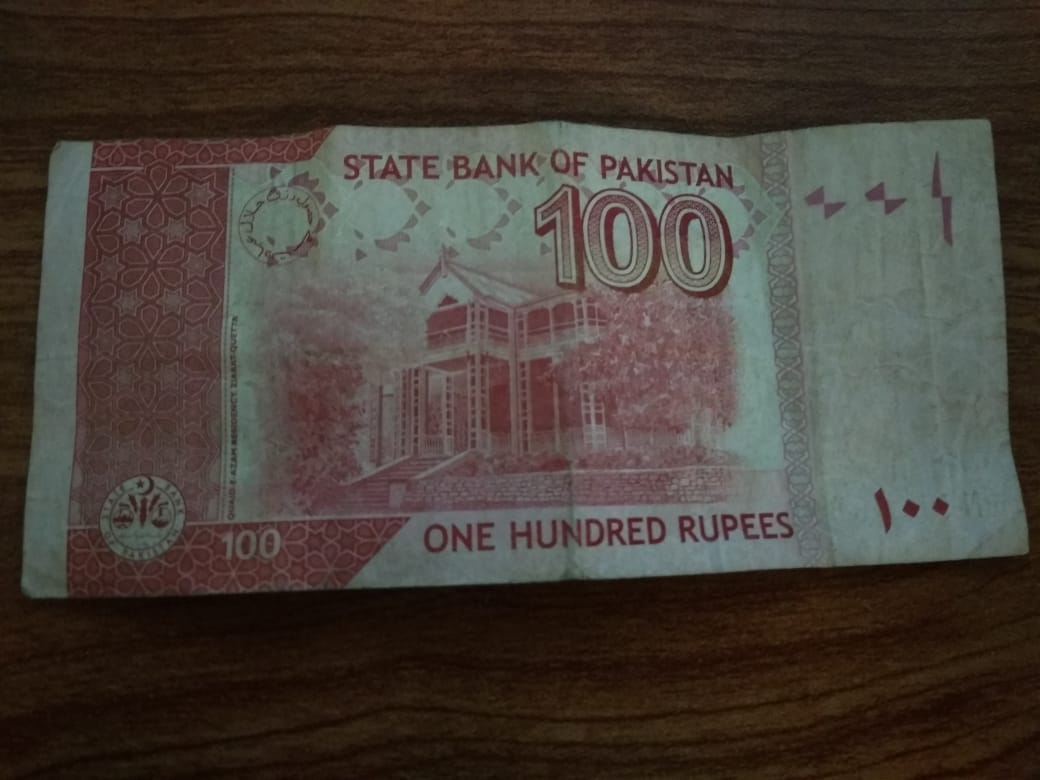100 rupee: (17, 110, 1029, 597)
